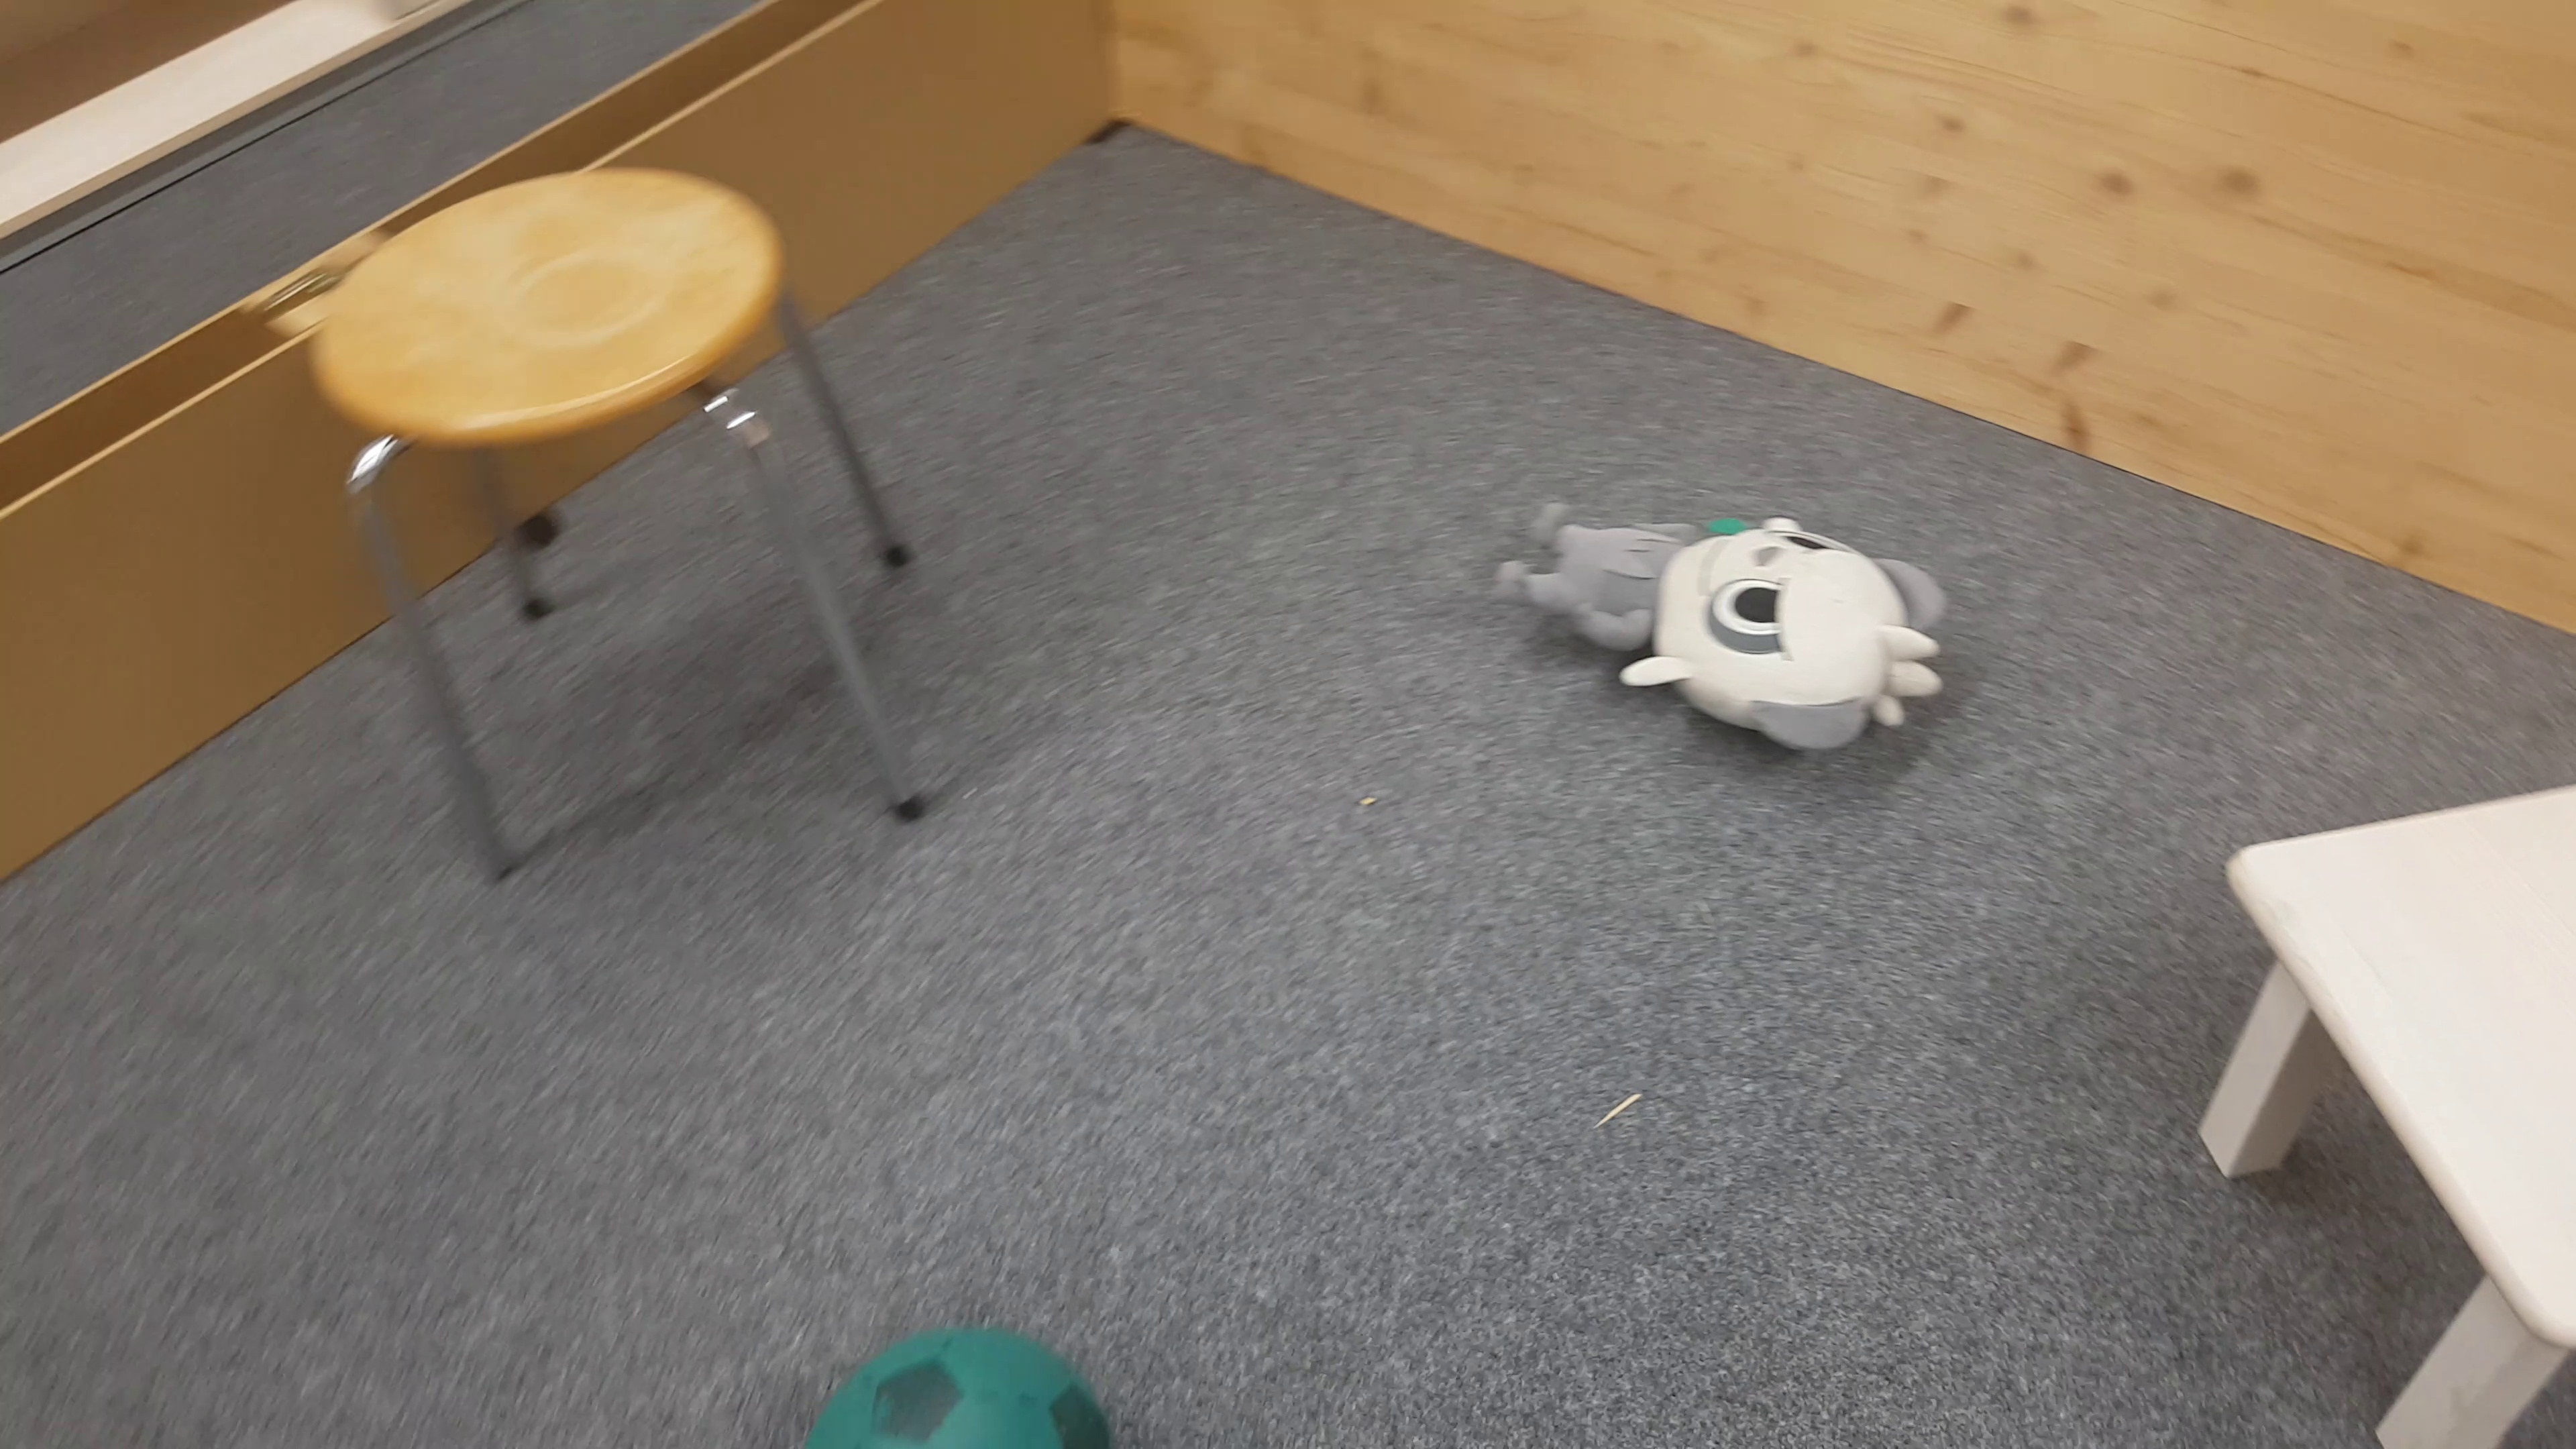grasp: (1509, 495, 1944, 754)
kick: (796, 1329, 1111, 1449)
